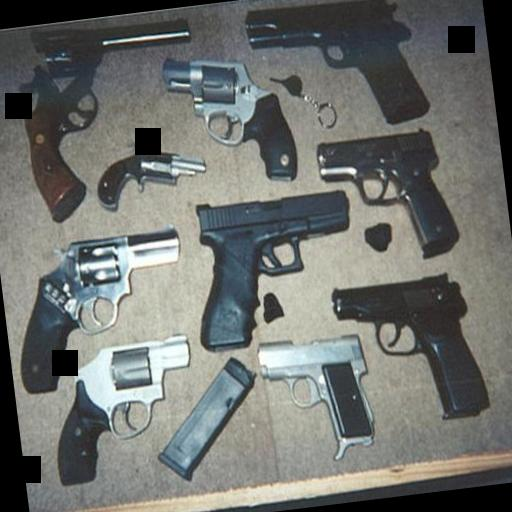Handgun: (0, 16, 210, 226), (4, 228, 196, 394), (180, 186, 364, 350), (239, 0, 431, 140), (327, 266, 490, 430), (39, 333, 204, 485), (314, 123, 460, 270), (159, 41, 300, 193), (252, 328, 378, 464), (88, 132, 210, 214)
